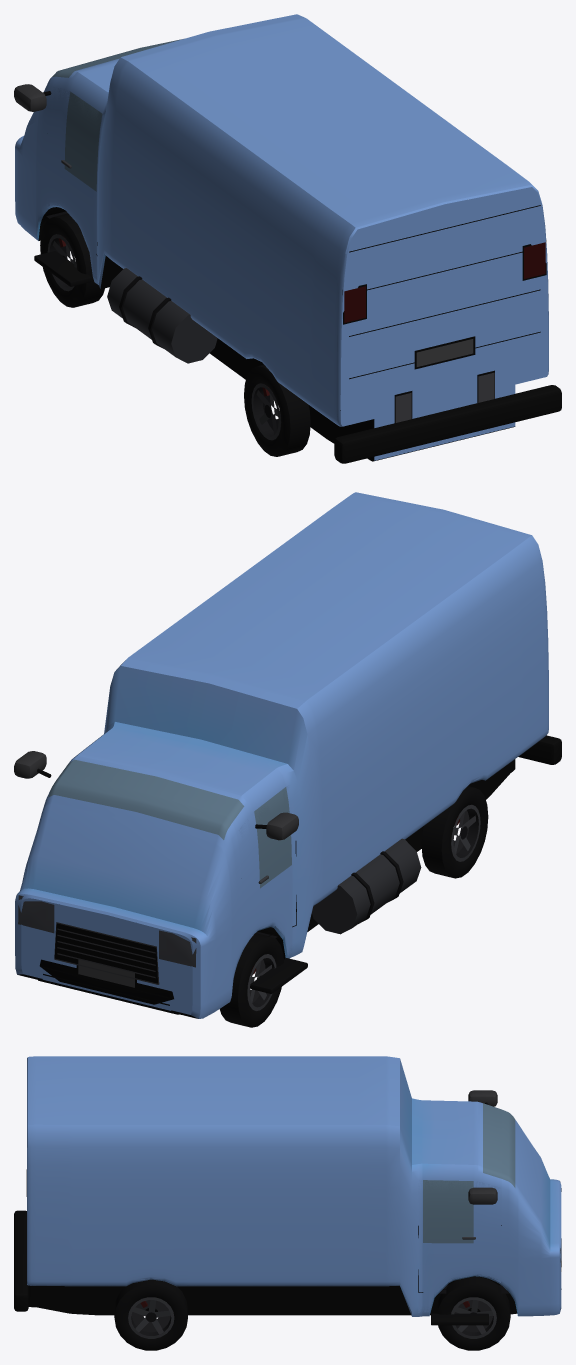
The model's file is cv2_delivery.glb.
3 views of the same model, one above another, from view 1: azimuth 30°, elevation 25°; view 2: azimuth 150°, elevation 25°; view 3: azimuth 270°, elevation 25° (orthographic). The views are drawn at different scales.
Visible parts, largest first — view 1: Body, DoorL_Mesh; view 2: Body, DoorL_Mesh; view 3: Body, DoorR_Mesh.
Boxes of the visible parts, x1,y1,x2,y2 form: Body: (14, 14, 561, 463); DoorL_Mesh: (47, 87, 103, 281); Body: (14, 492, 561, 1027); DoorL_Mesh: (238, 785, 296, 954); Body: (14, 1056, 561, 1350); DoorR_Mesh: (418, 1180, 501, 1312).
Size of what is drawn, in the model's own units: 2.69 by 2.7 by 5.95.
